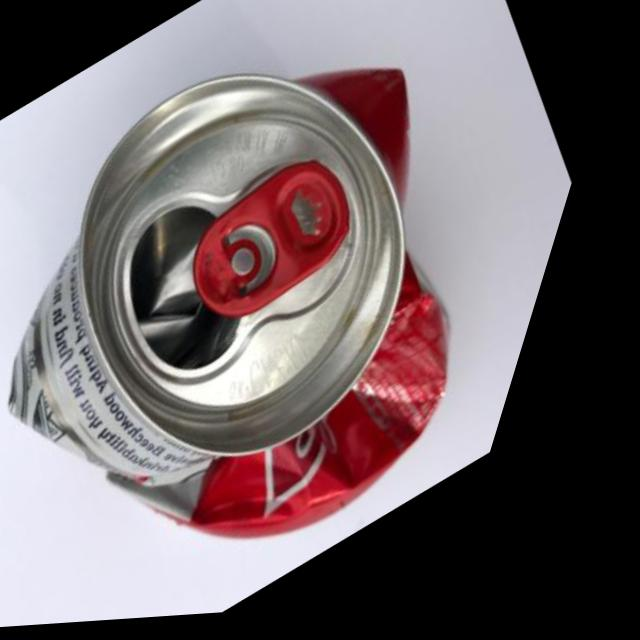metal: (0, 0, 640, 639)
